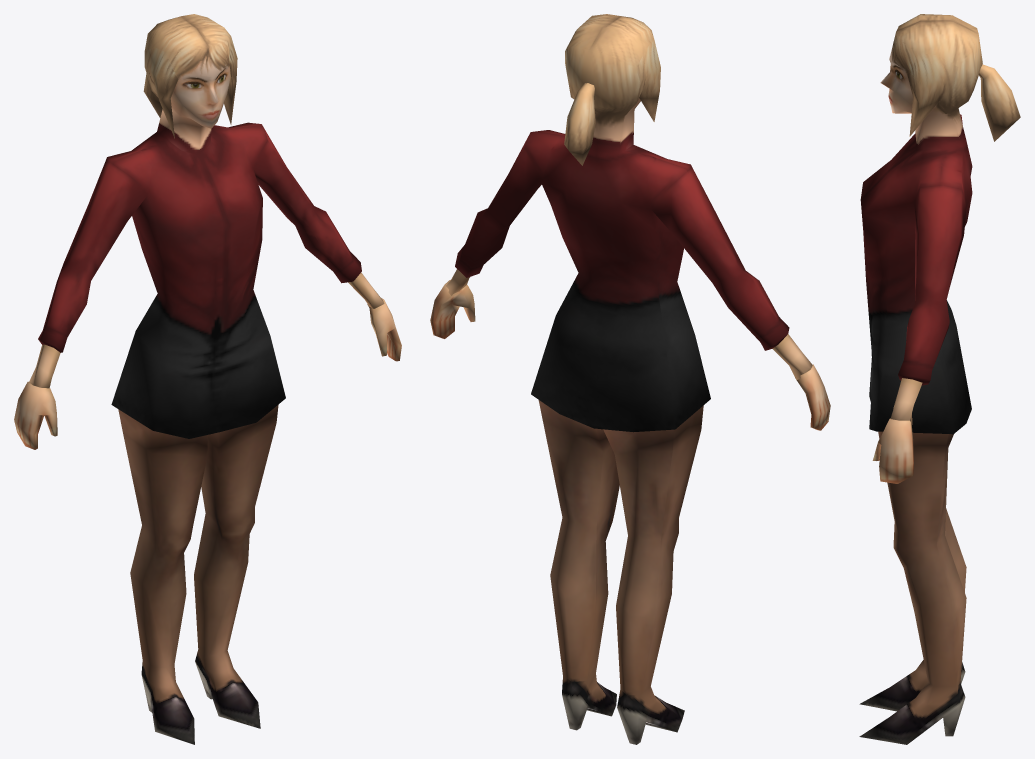
Rendered from woman.obj.
3 views of the same model, side by side, from view 1: azimuth 30°, elevation 25°; view 2: azimuth 150°, elevation 25°; view 3: azimuth 270°, elevation 25° (orthographic). The views are drawn at different scales.
Parts seen in each view (by area): view 1: character_secretary; view 2: character_secretary; view 3: character_secretary.
Part boxes in pixels (left/top/right/bottom): character_secretary: left=14, top=14, right=401, bottom=744; character_secretary: left=430, top=14, right=830, bottom=744; character_secretary: left=859, top=14, right=1020, bottom=744.
Size of the model in its own units: 0.9431 by 1.65 by 0.3458.
Materials: 1 (1 with a texture image).
